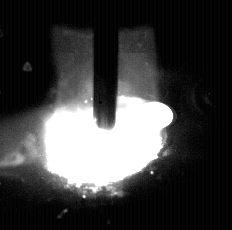arame: (94, 0, 118, 129)
poca: (44, 0, 166, 230)
